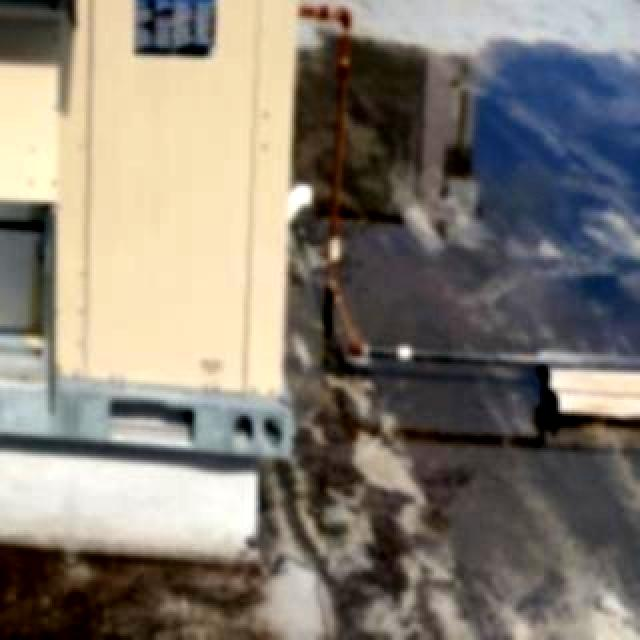RTU: (0, 0, 304, 468)
